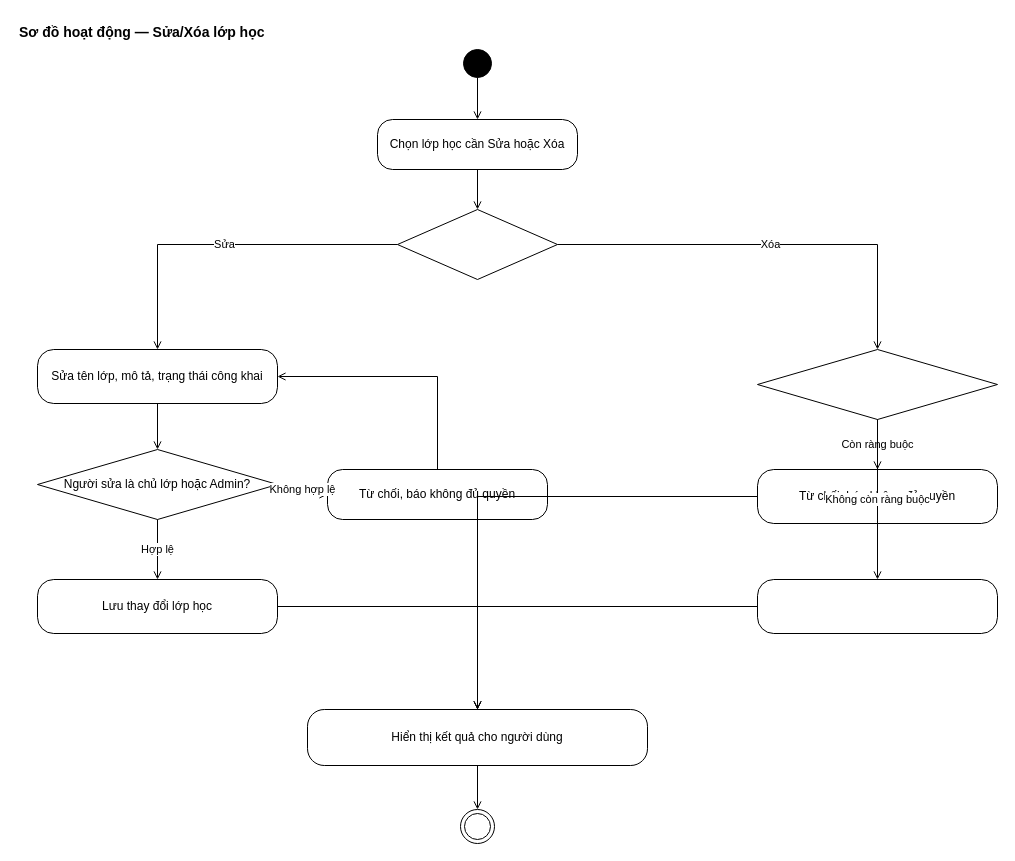
This 1015x861 diagram has some shape labels left out. The shapes that lost their labels are listed below. From the top down, each one's box as (x1, y1, x2, y2) in pixels, then its label:
(396, 208, 558, 280): Sửa hay Xóa?
(756, 348, 998, 420): Người xóa là chủ lớp hoặc Admin?
(756, 578, 998, 634): Xóa lớp (cascade sinh viên, bảng tin, bài tập)
